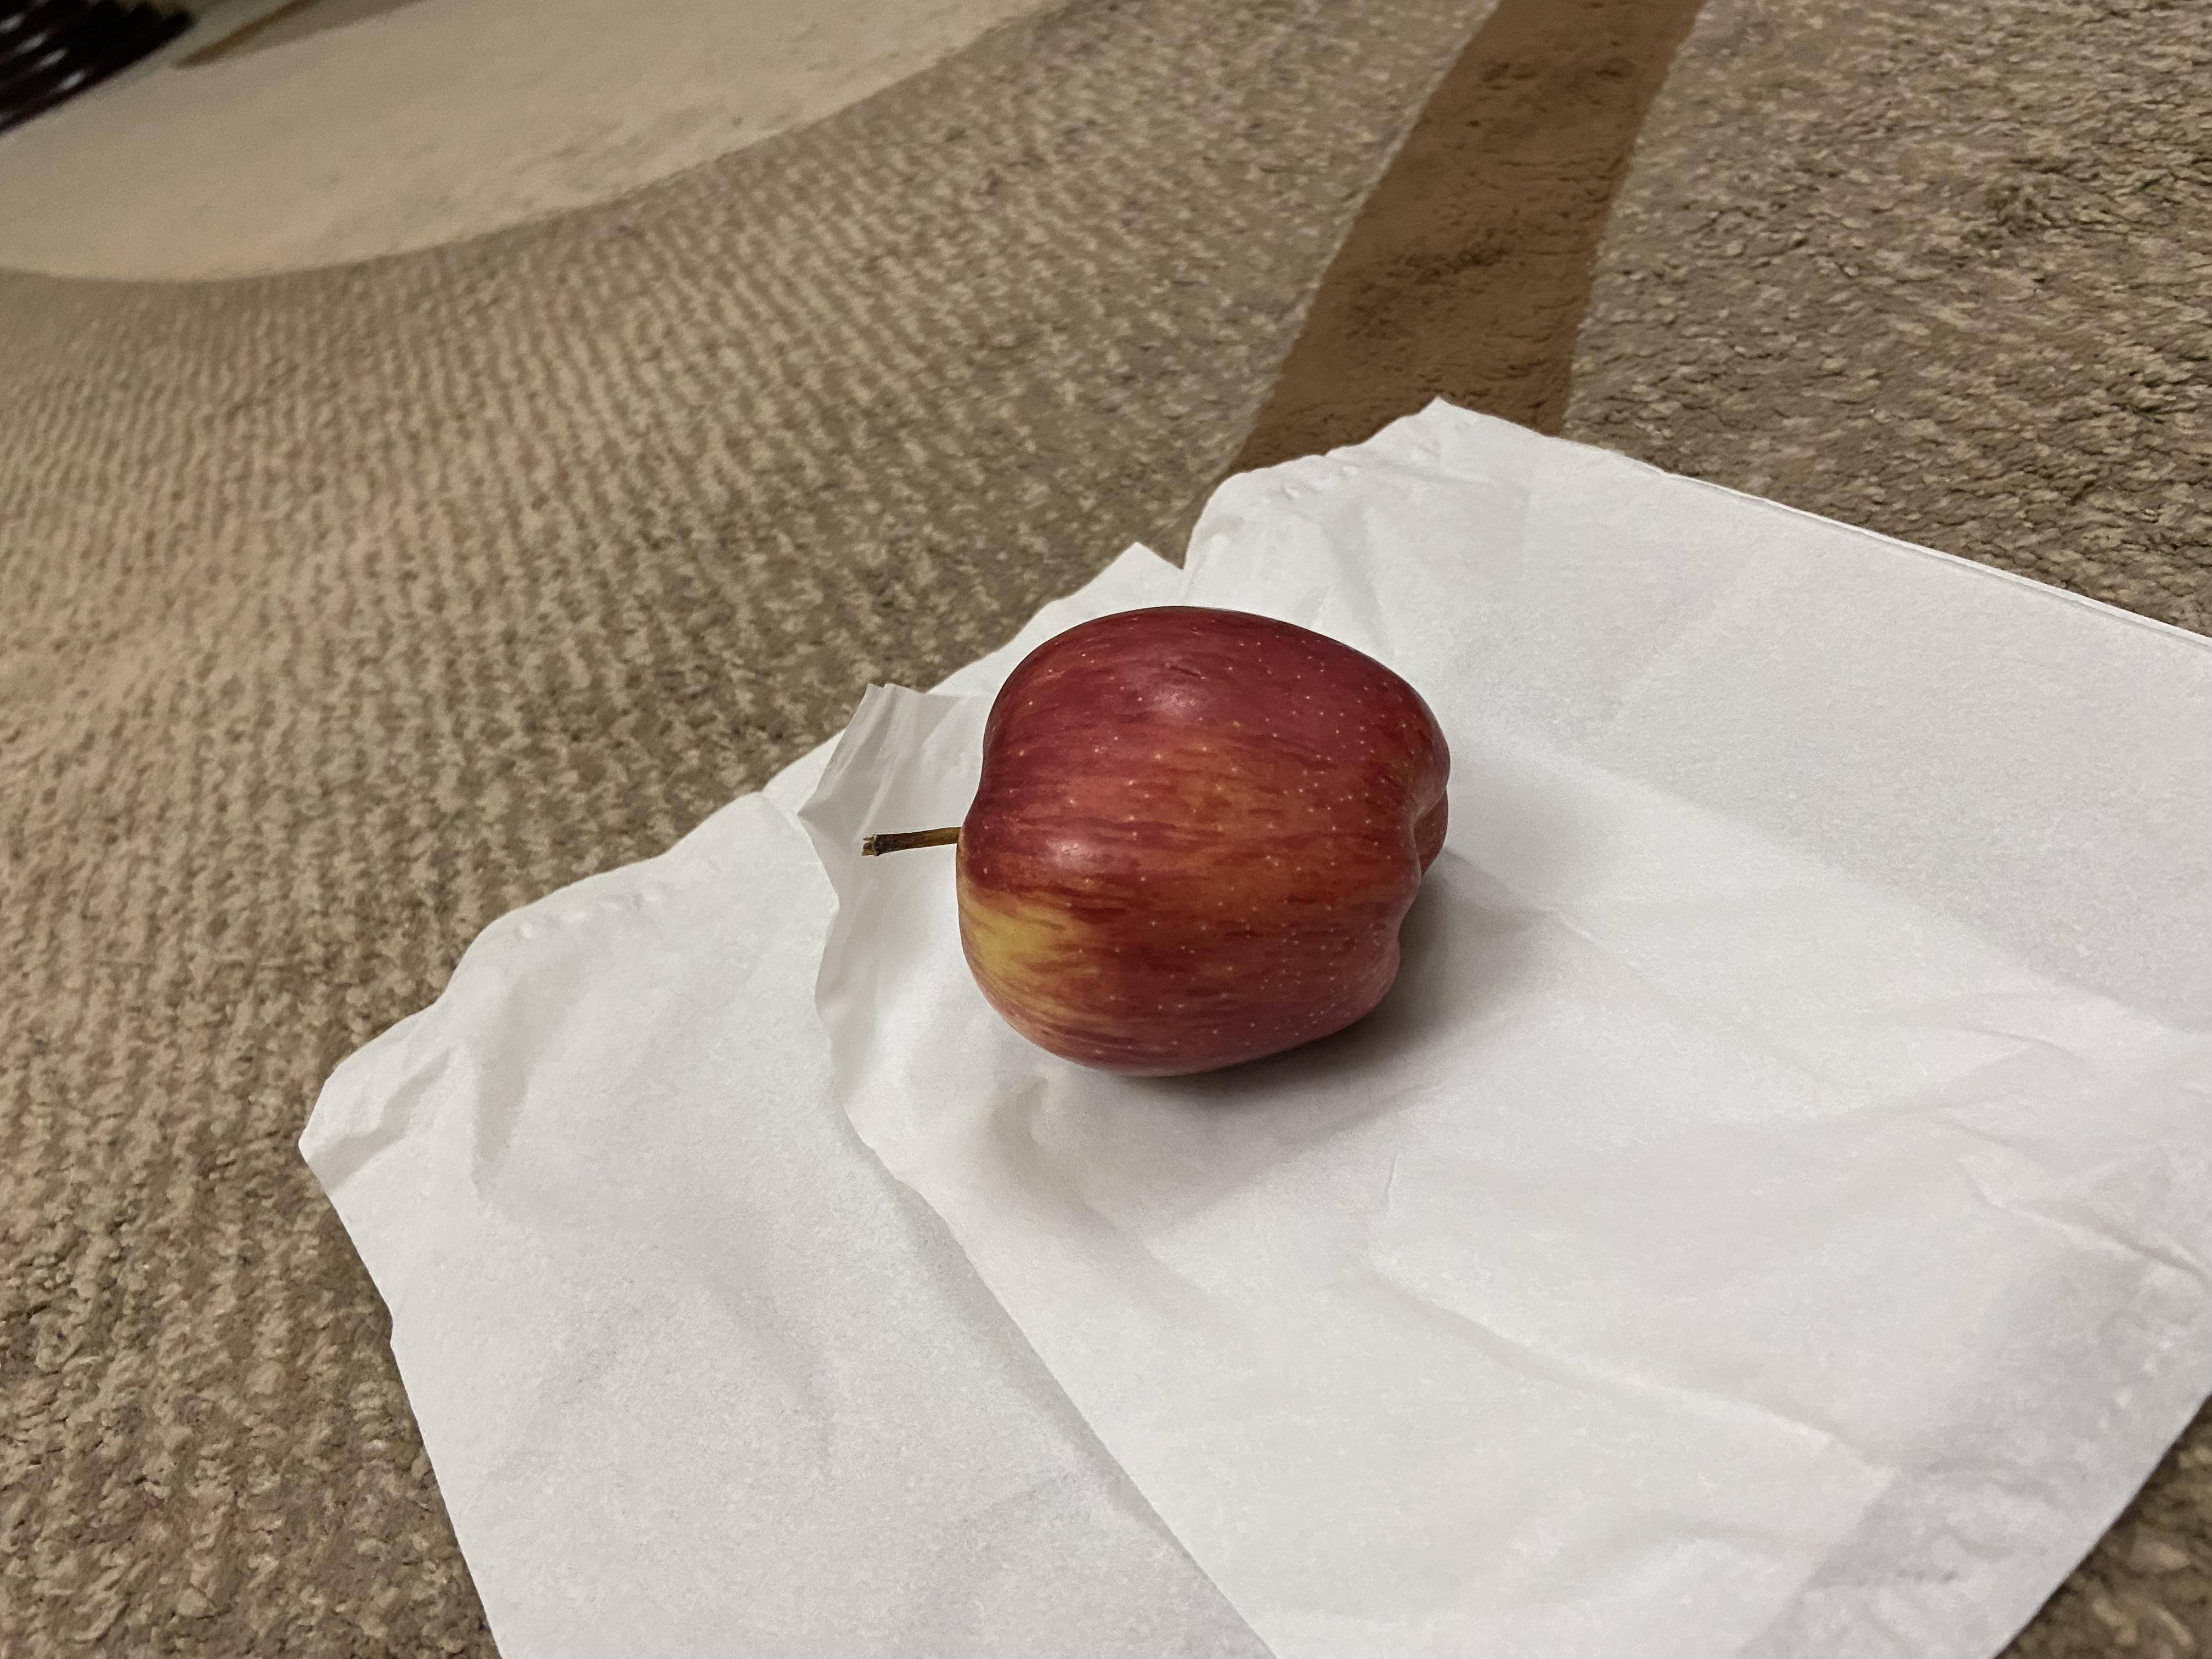Apple: (841, 592, 1465, 1114)
